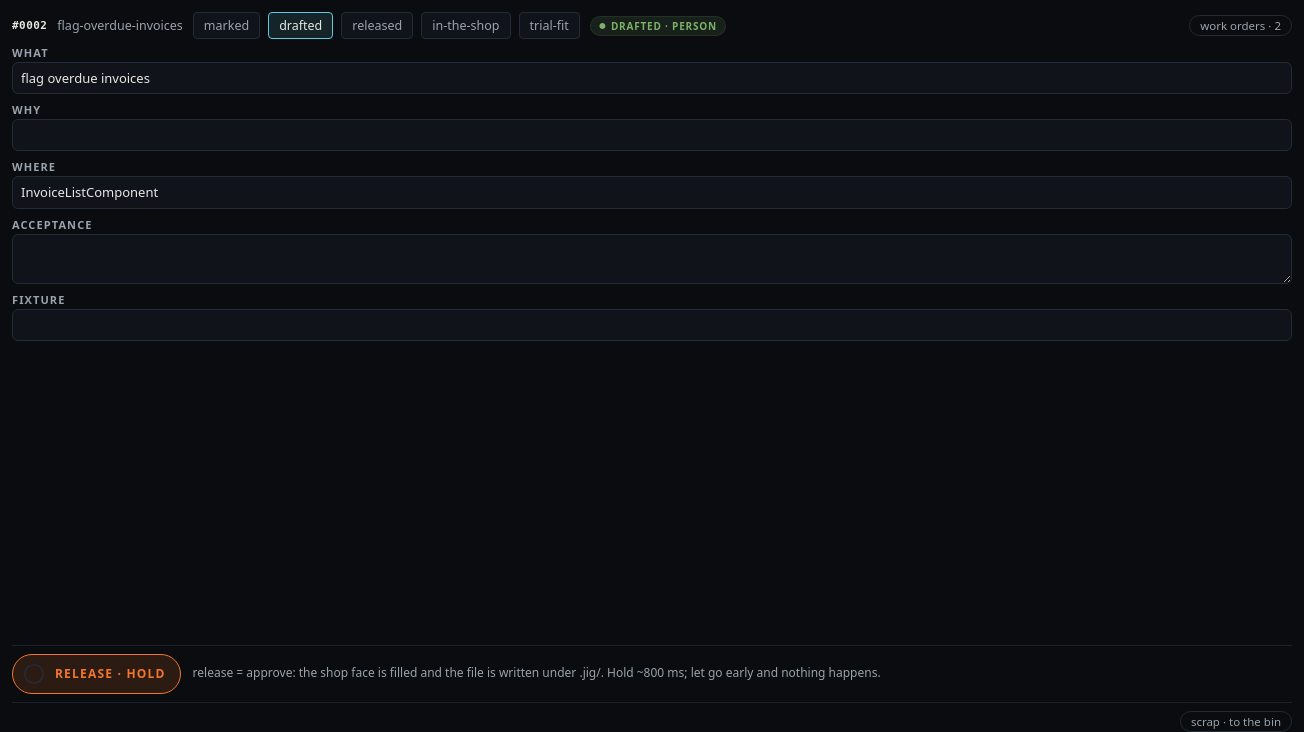
it: TrayRegion — expanded: the spine › a printed affordance clears filters and returns to the full spine
The width and height of the screenshot is (1304, 732).
Click the button "work orders · 2": [1241, 26] box [1189, 15, 1292, 36]
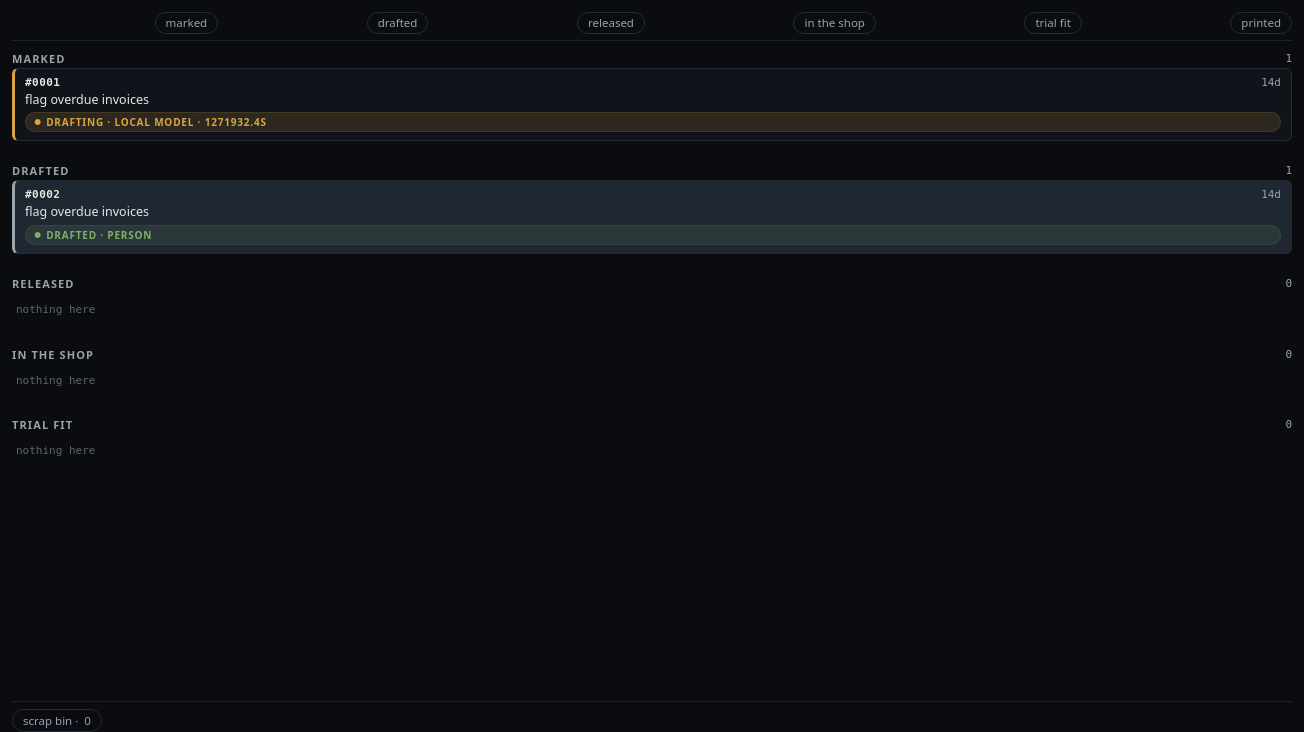
Click the button "marked": [186, 23] box [154, 12, 218, 34]
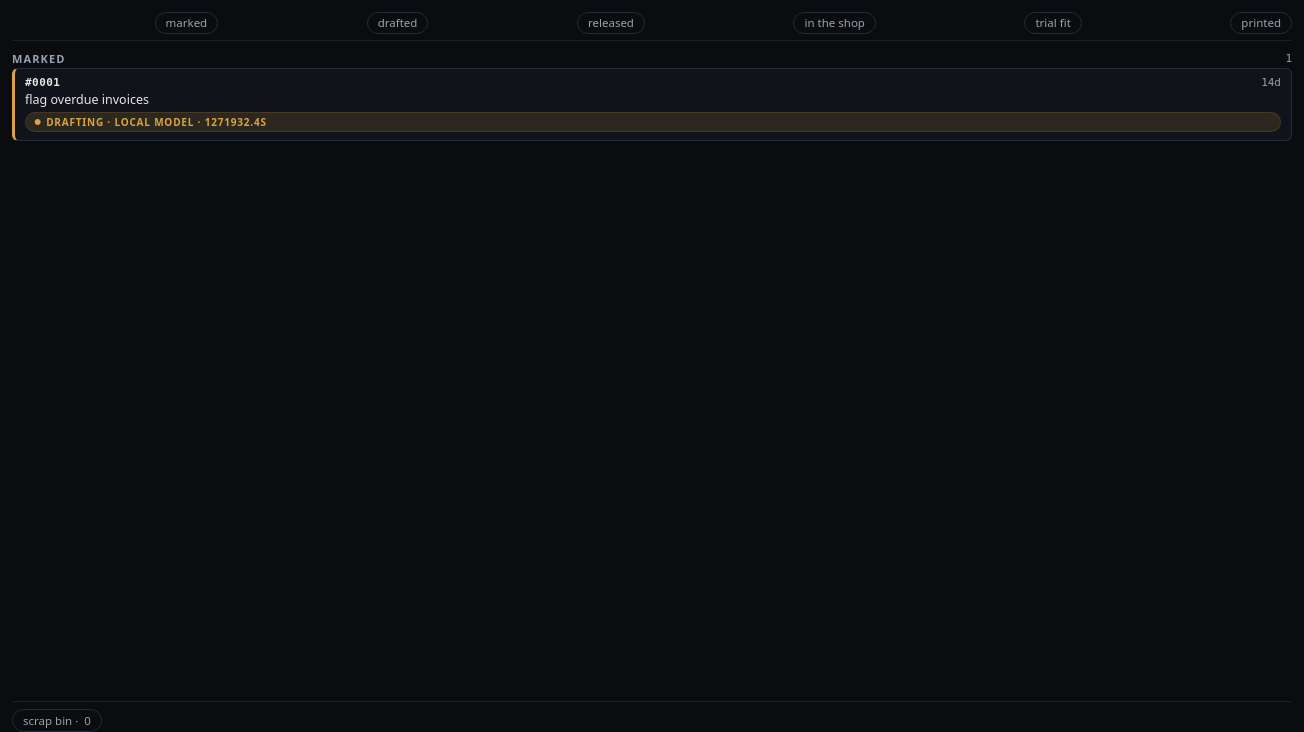
Click the button "printed": [1261, 23] box [1230, 12, 1292, 34]
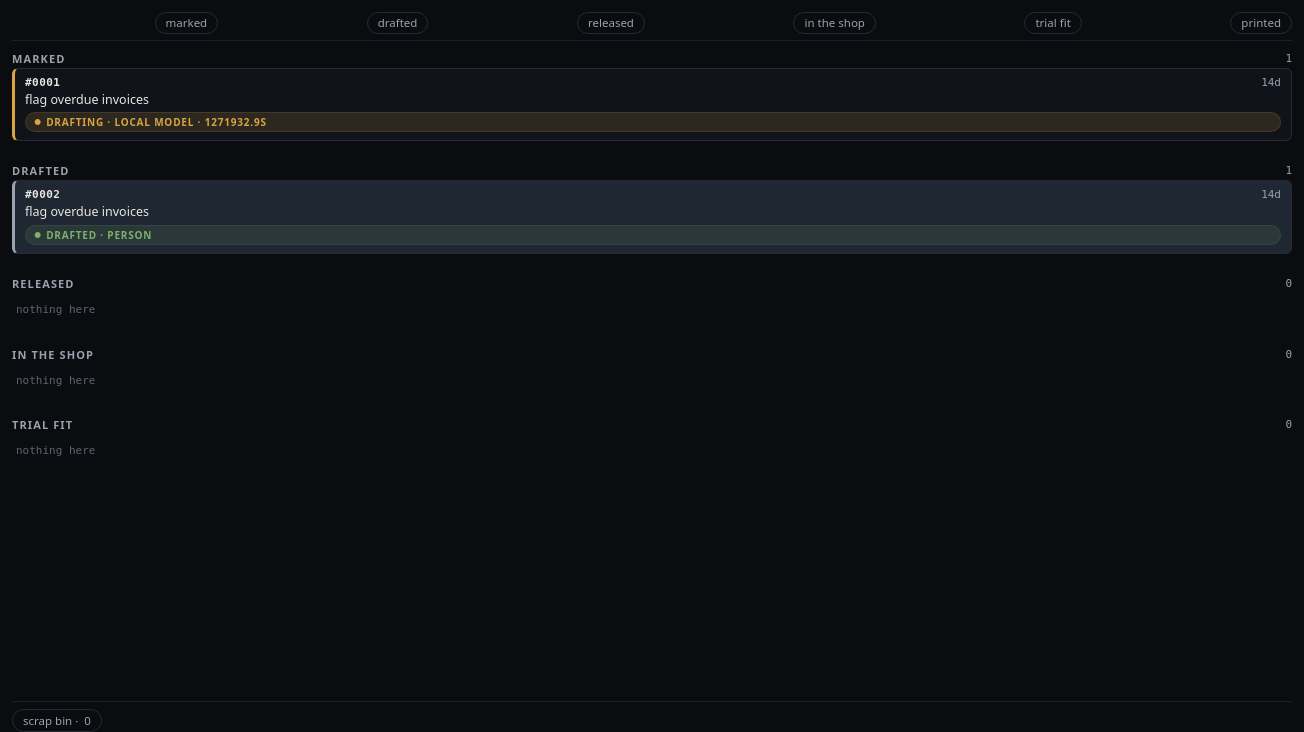
Now the text "#0001" is shown, box [25, 76, 60, 88]
Now the text "#0002" is shown, box [25, 189, 60, 200]
